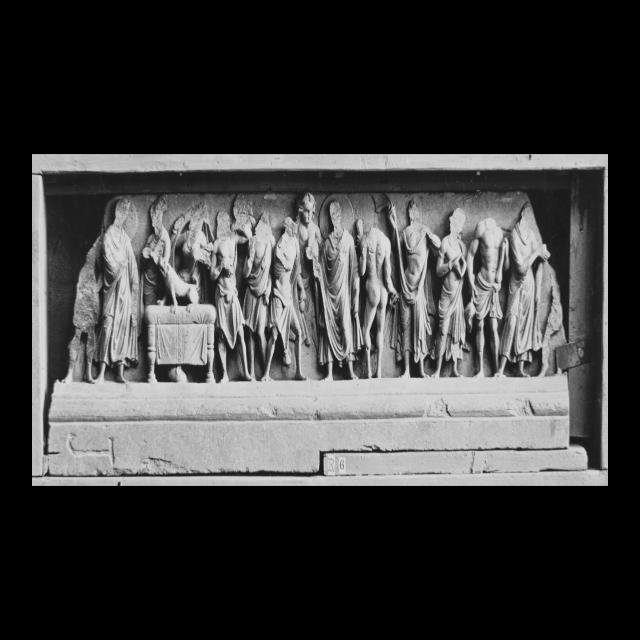buddha-standing: (312, 200, 362, 380)
